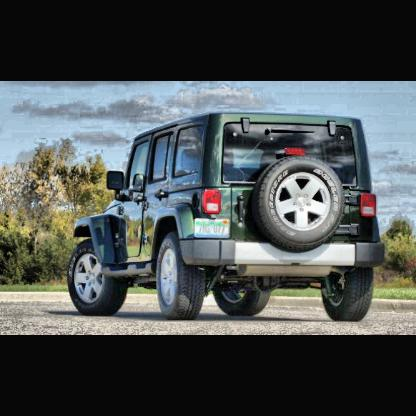Jeep Wrangler SUV 2012: (65, 112, 388, 323)
